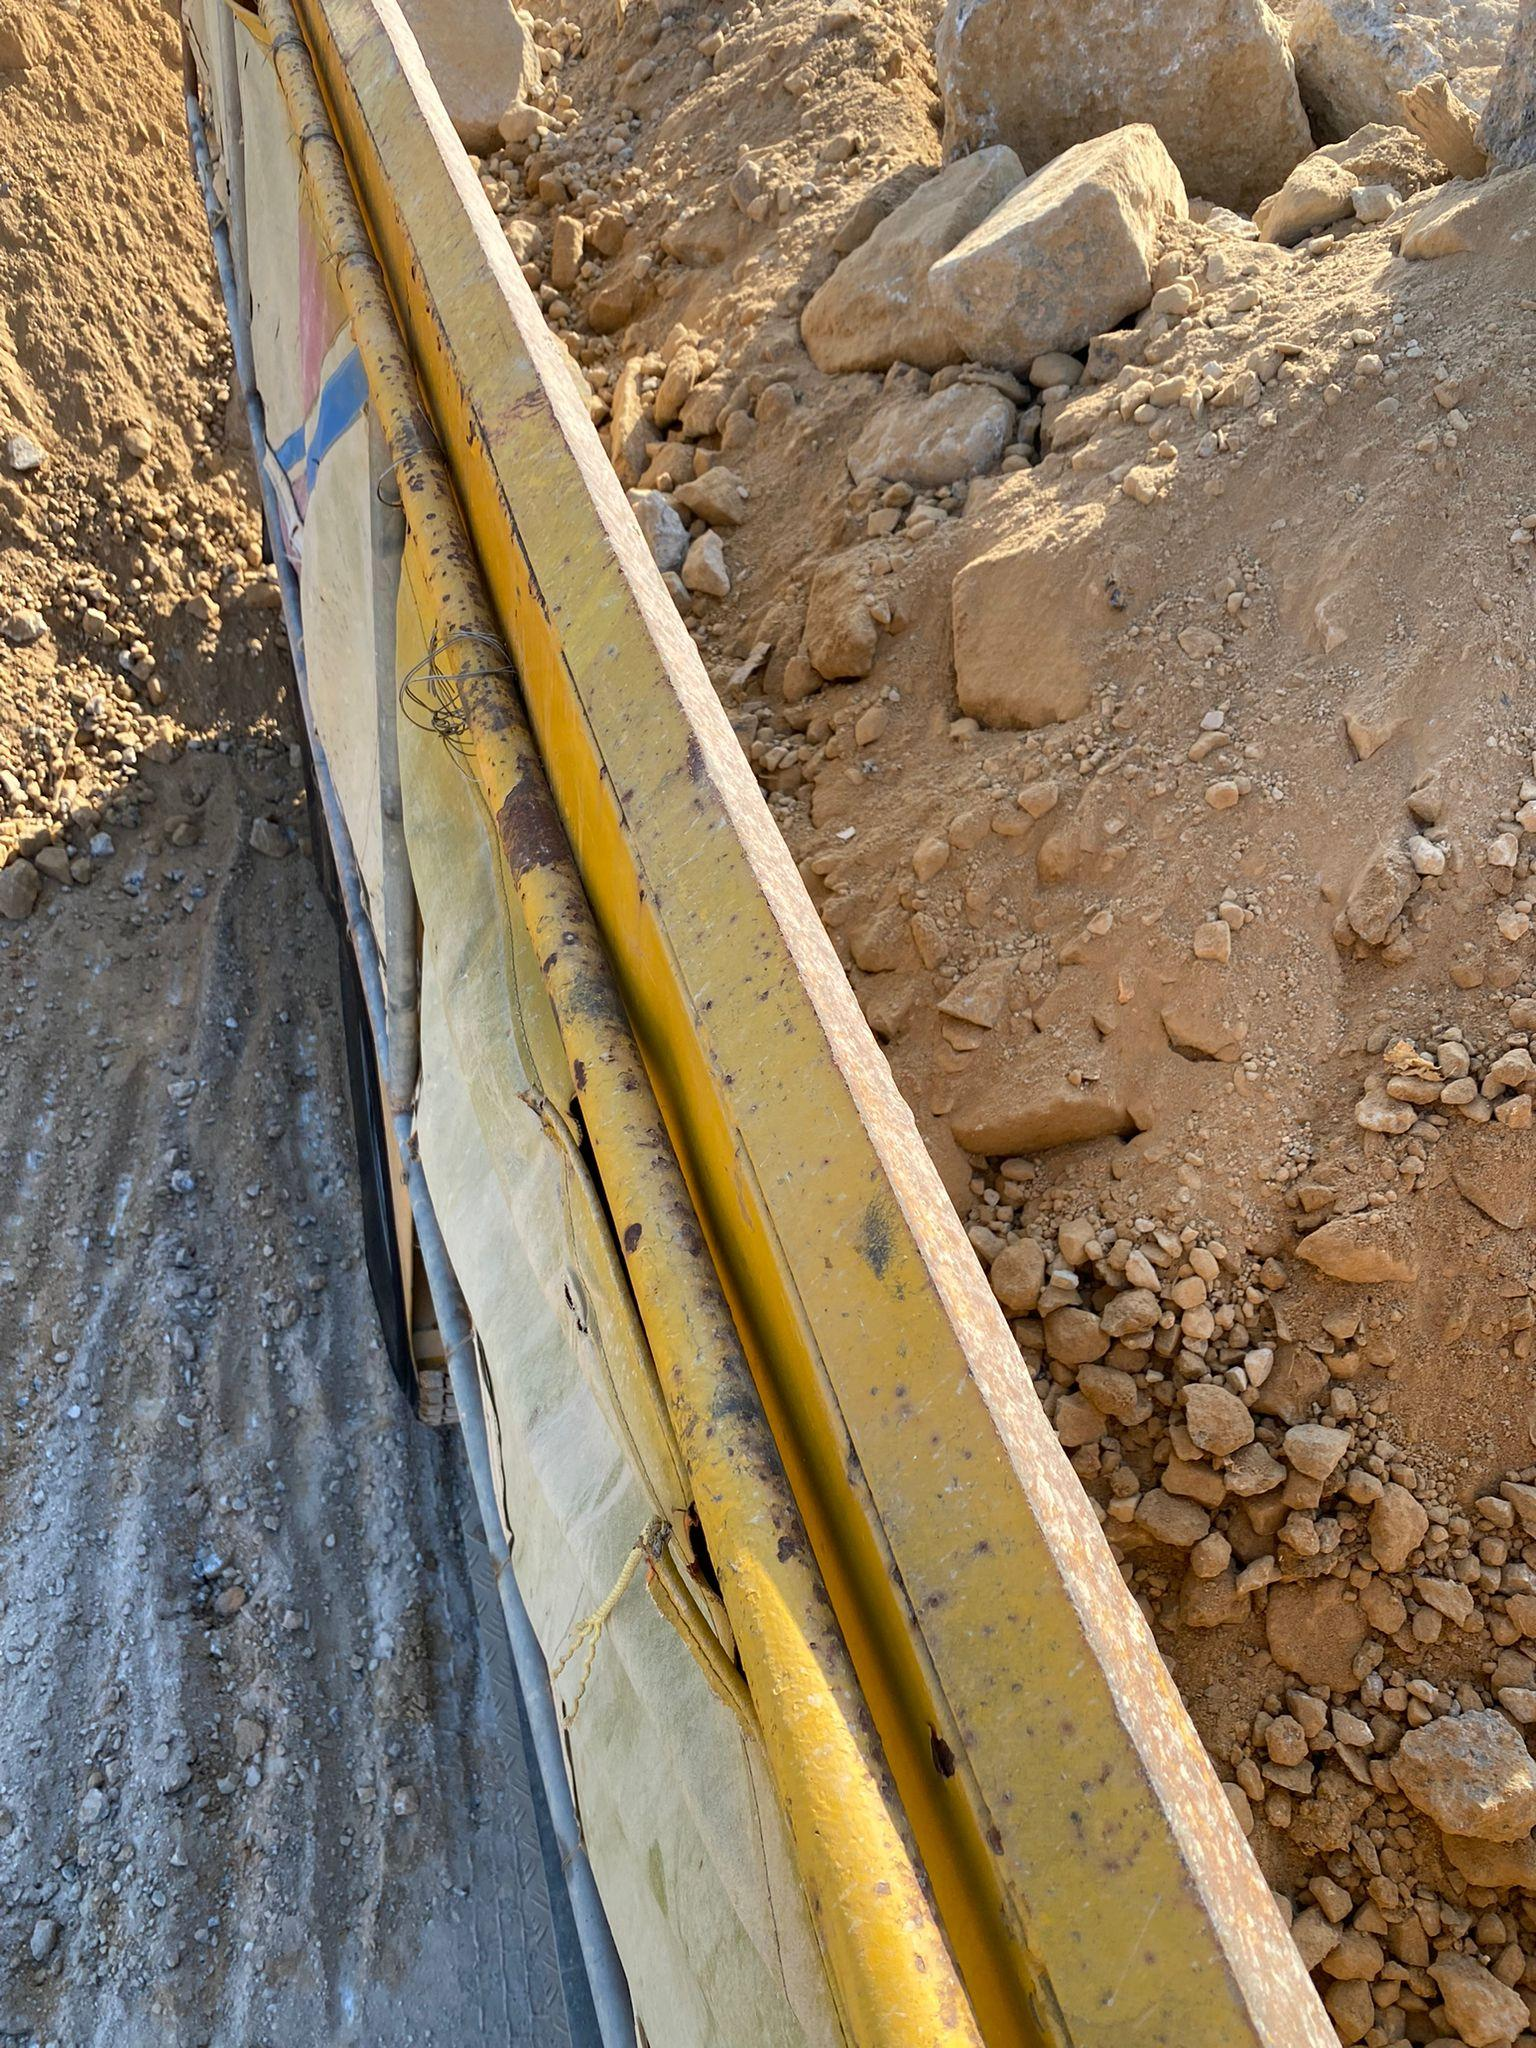stone: (799, 119, 1189, 377), (1389, 1706, 1534, 1843)
